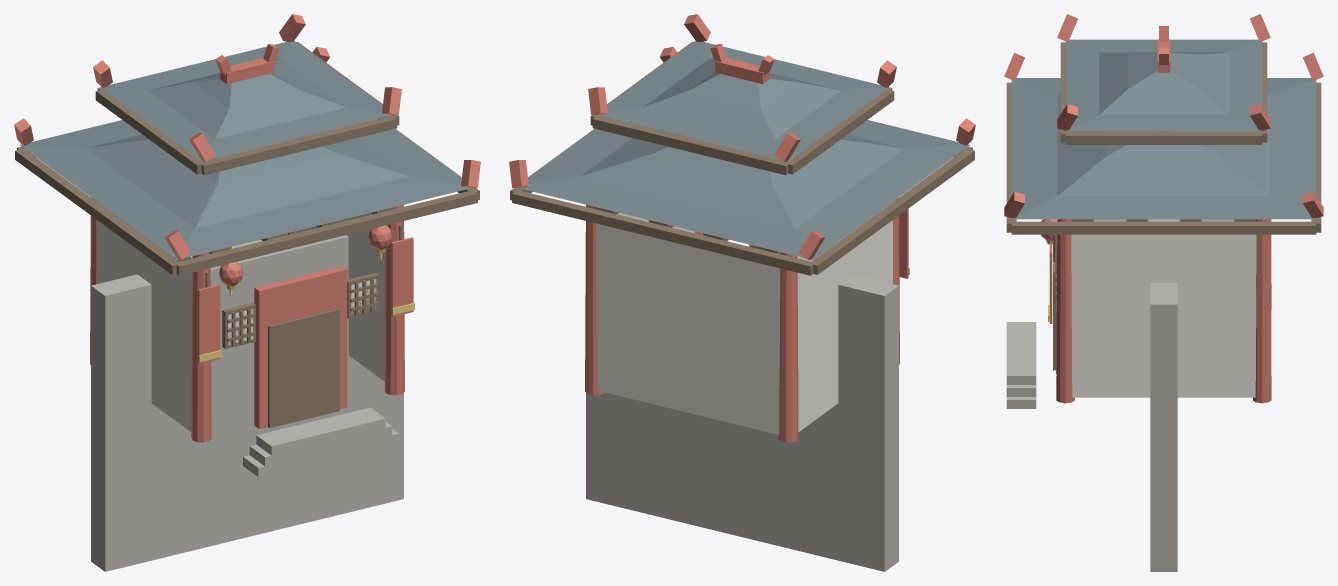
File: SM_Building_Temple.fbx
The picture shows the model from 3 angles, left to right: view 1: azimuth 30°, elevation 25°; view 2: azimuth 150°, elevation 25°; view 3: azimuth 270°, elevation 25°; orthographic projection. The views are drawn at different scales.
Visible parts, largest first — view 1: Temple; view 2: Temple; view 3: Temple.
Part boxes in pixels (left/top/right/bottom): Temple: left=14, top=14, right=480, bottom=571; Temple: left=509, top=14, right=975, bottom=571; Temple: left=1004, top=14, right=1323, bottom=571.
Bounding box in the file's own units: 3.55 × 5.21 × 3.25.
